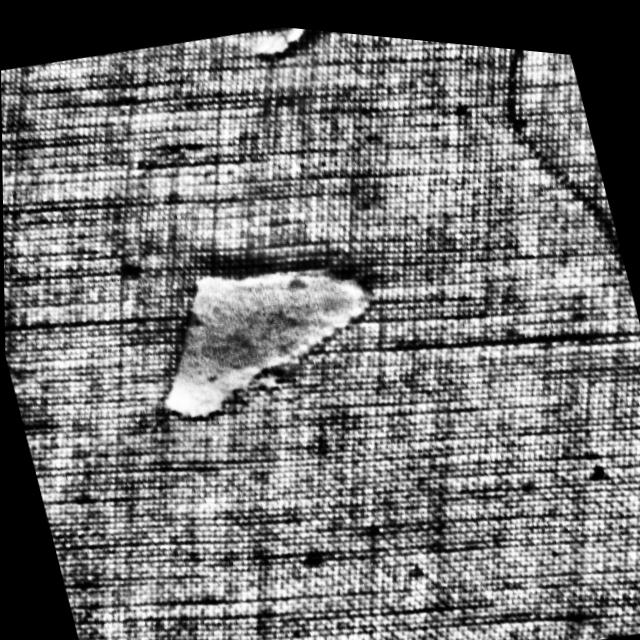Hole: (242, 18, 341, 68)
Stitch: (122, 220, 398, 448), (471, 36, 627, 287)
